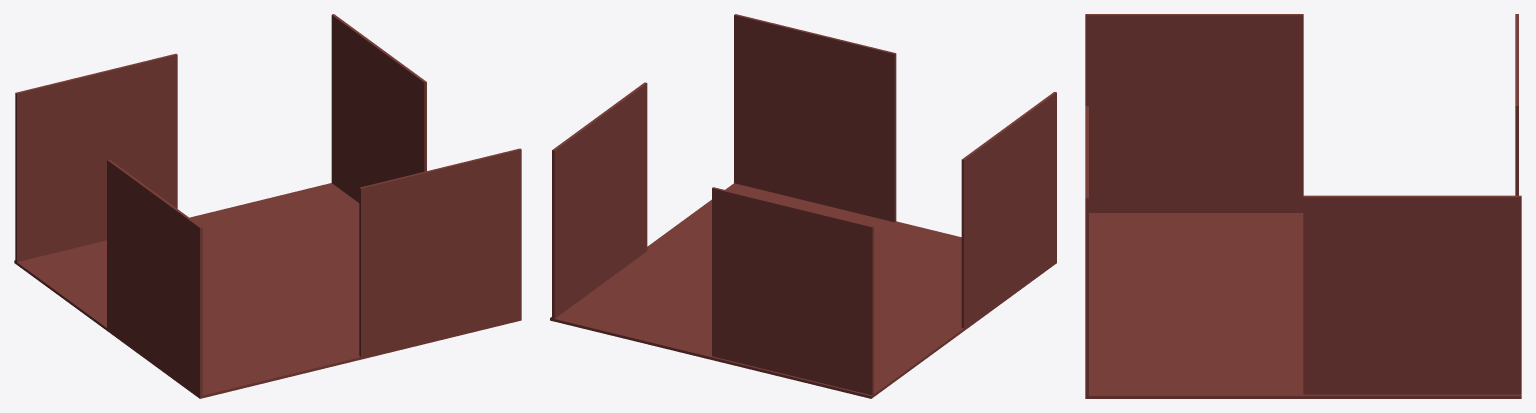
File: 2x2Hell.fbx
3 renders of one model, left to right at view 1: azimuth 30°, elevation 25°; view 2: azimuth 150°, elevation 25°; view 3: azimuth 270°, elevation 25°, orthographic. The views are drawn at different scales.
Visible parts, largest first — view 1: Plane.044; view 2: Plane.044; view 3: Plane.044.
Part boxes in pixels (box(x1,y1,x2,y2)): Plane.044: box(14, 14, 521, 398); Plane.044: box(550, 14, 1056, 398); Plane.044: box(1085, 14, 1521, 398).
Size of the model in its own units: 7200 by 3657 by 7200.
